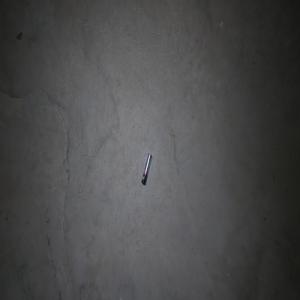Battery: (141, 152, 152, 185)
